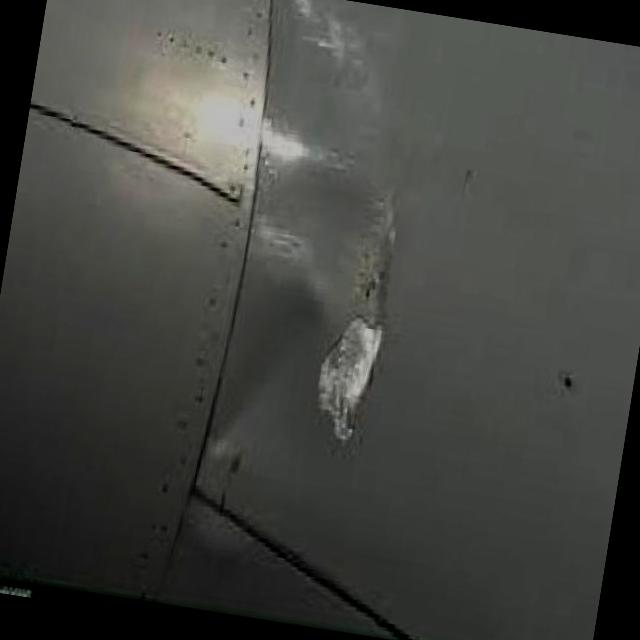dent: (310, 192, 394, 450)
